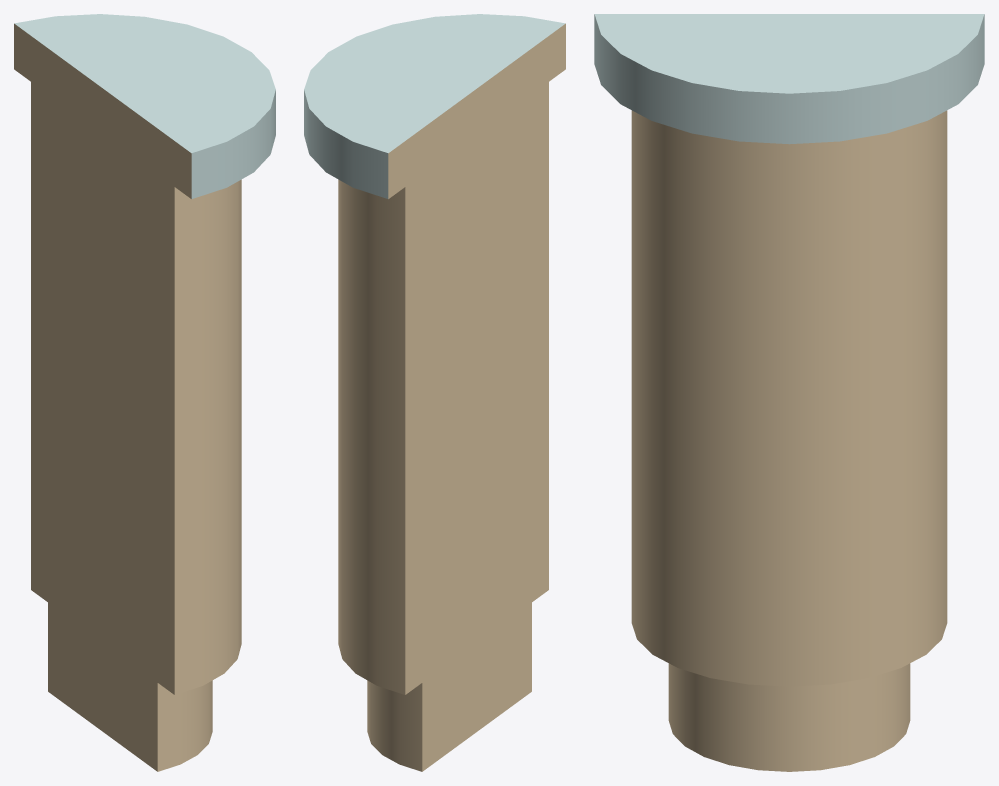
File: kitchenBarEnd.glb
The picture shows the model from 3 angles, left to right: view 1: azimuth 30°, elevation 25°; view 2: azimuth 150°, elevation 25°; view 3: azimuth 270°, elevation 25°; orthographic projection. The views are drawn at different scales.
Parts seen in each view (by area): view 1: kitchenBarEnd; view 2: kitchenBarEnd; view 3: kitchenBarEnd.
Boxes of the visible parts, x1,y1,x2,y2 form: kitchenBarEnd: (14, 14, 275, 771); kitchenBarEnd: (304, 14, 565, 771); kitchenBarEnd: (594, 14, 984, 771).
Size of the model in its own units: 1.02 by 4.2 by 2.1.
